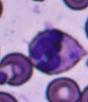N: (29, 27, 84, 74)
